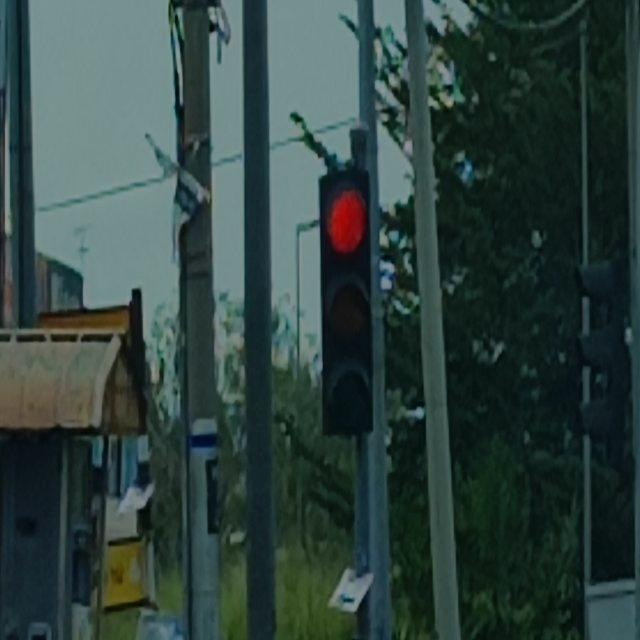Red: (318, 172, 373, 437)
